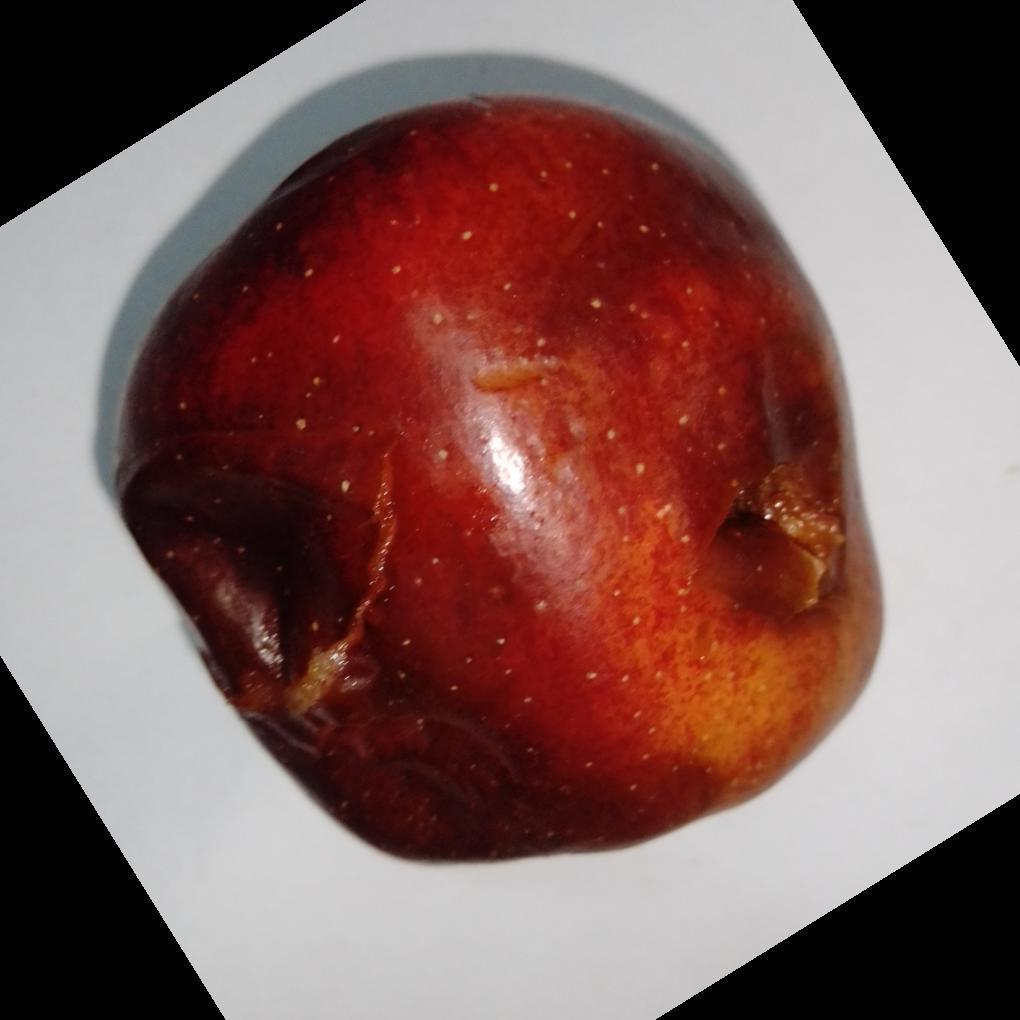FreshOrange: (89, 74, 886, 871)
